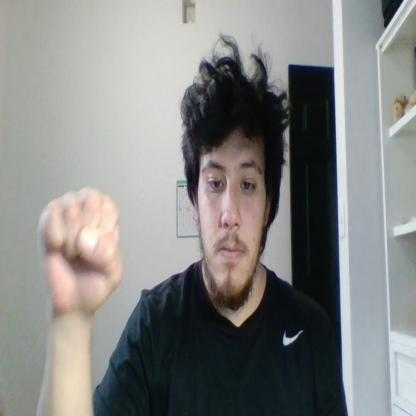S: (36, 187, 122, 315)
